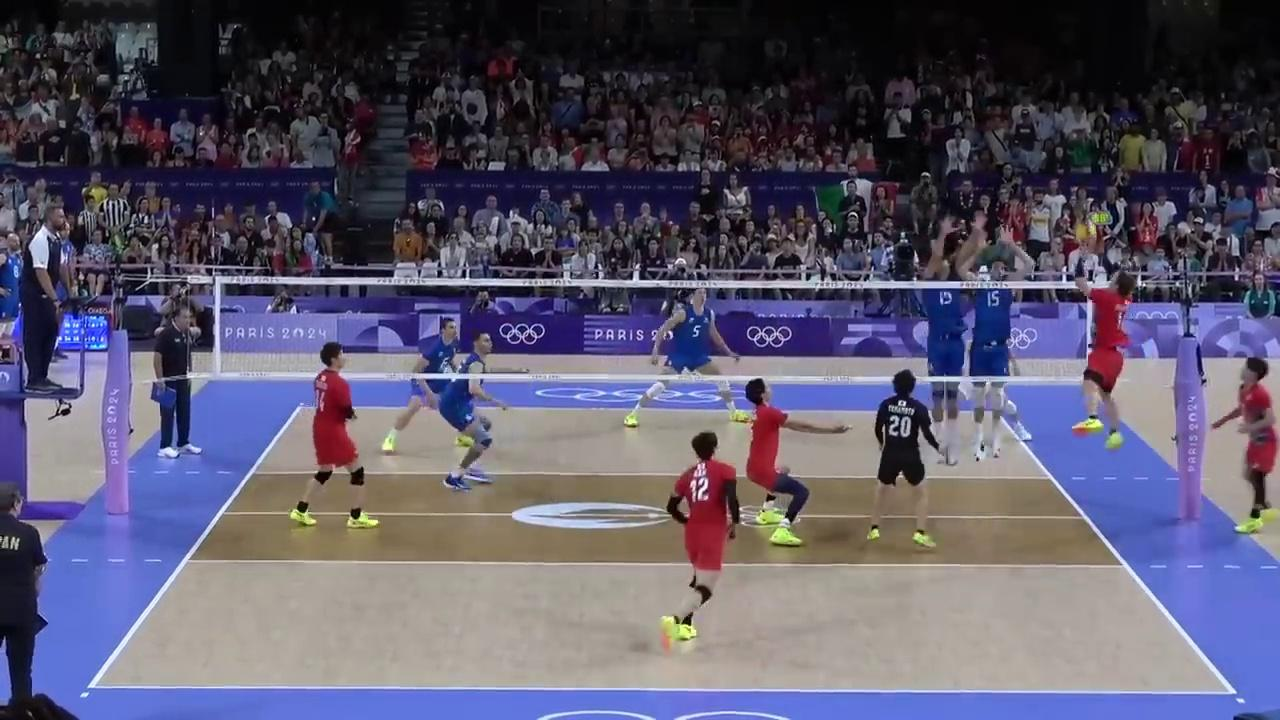ball: (1078, 222, 1095, 239)
